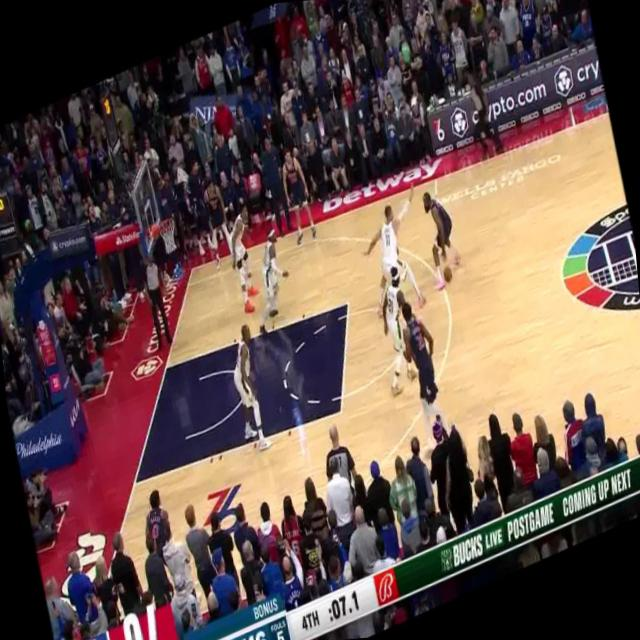ball-handler: (412, 176, 472, 297)
